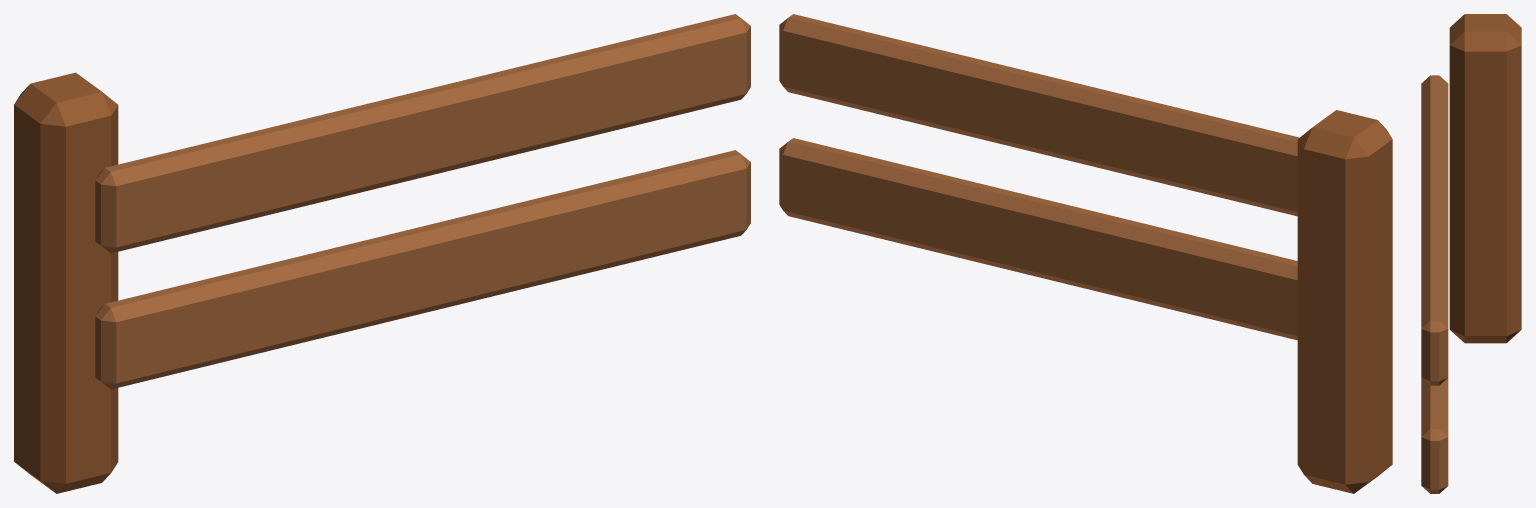
File: cerca.glb
The picture shows the model from 3 angles, left to right: view 1: azimuth 30°, elevation 25°; view 2: azimuth 150°, elevation 25°; view 3: azimuth 270°, elevation 25°; orthographic projection. The views are drawn at different scales.
Parts seen in each view (by area): view 1: cerca; view 2: cerca; view 3: cerca.
Boxes of the visible parts, x1,y1,x2,y2 form: cerca: (14,14,750,493); cerca: (779,14,1392,493); cerca: (1421,14,1521,493).
Size of the model in its own units: 2.12 by 1.15 by 0.335.
